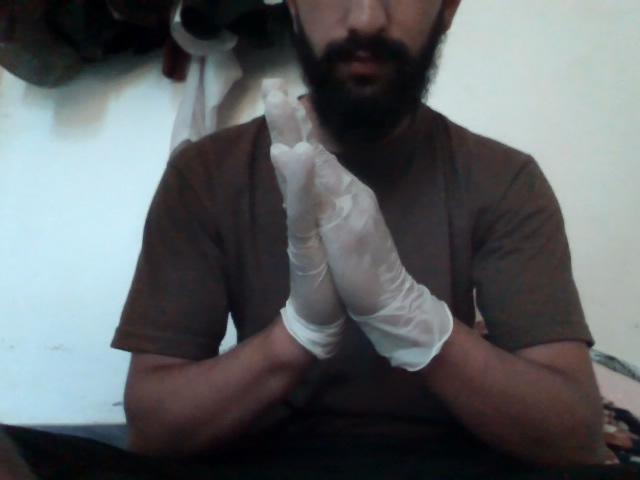gloves: (231, 64, 468, 371)
